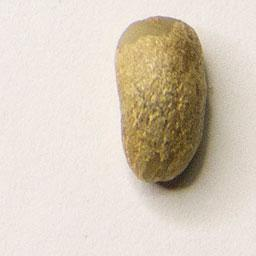longberry: (111, 13, 213, 186)
